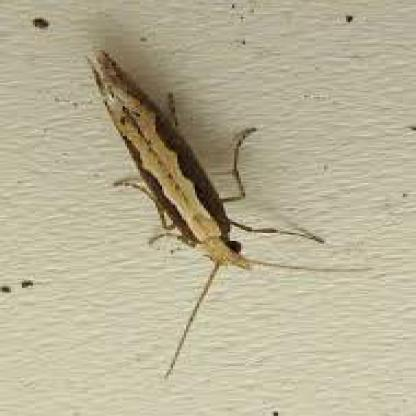plutella: (82, 23, 390, 391)
